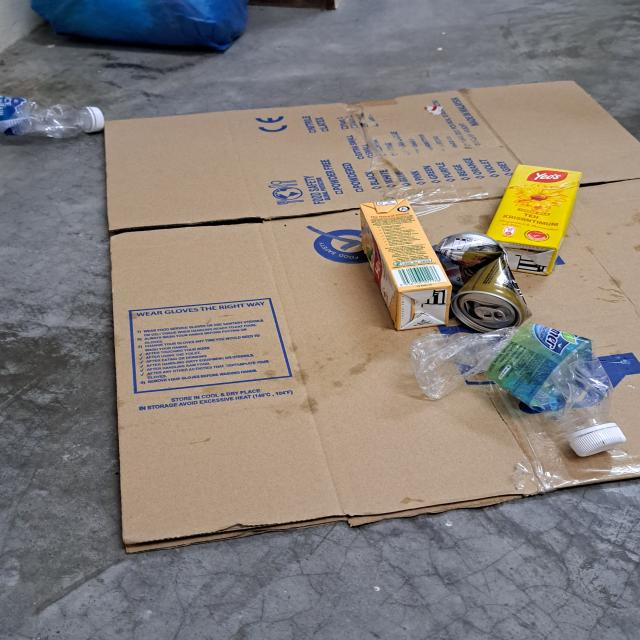can: (436, 228, 528, 332)
cardboard: (107, 79, 640, 554)
drink carton: (363, 197, 450, 330), (486, 162, 578, 277)
plastic bottle: (410, 323, 626, 461), (0, 94, 104, 143)
plastic bottle cap: (564, 418, 624, 458), (80, 106, 104, 134)
